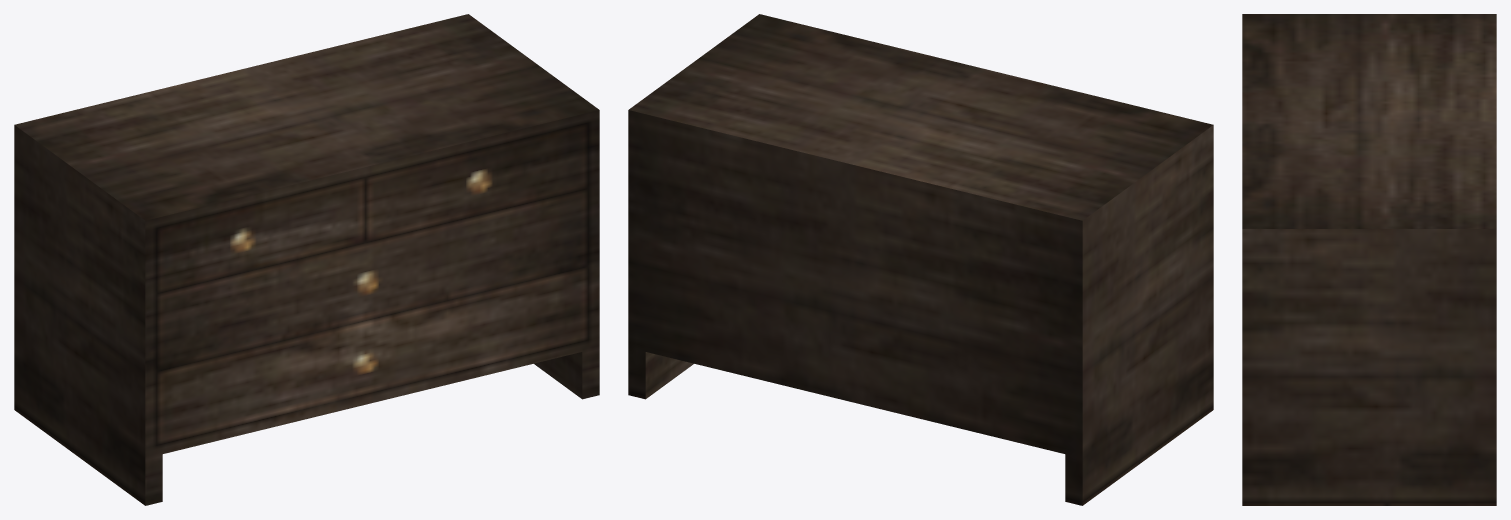
File: [PSX] Dresser Model.fbx
3 views of the same model, side by side, from view 1: azimuth 30°, elevation 25°; view 2: azimuth 150°, elevation 25°; view 3: azimuth 270°, elevation 25° (orthographic). The views are drawn at different scales.
Parts seen in each view (by area): view 1: Cube; view 2: Cube; view 3: Cube.
Part boxes in pixels (x1=…): Cube: x1=14, y1=14, x2=599, y2=505; Cube: x1=628, y1=14, x2=1213, y2=505; Cube: x1=1242, y1=14, x2=1496, y2=505.
Bounding box in the file's own units: 100 × 60 × 50.
Materials: 1 (1 with a texture image).
